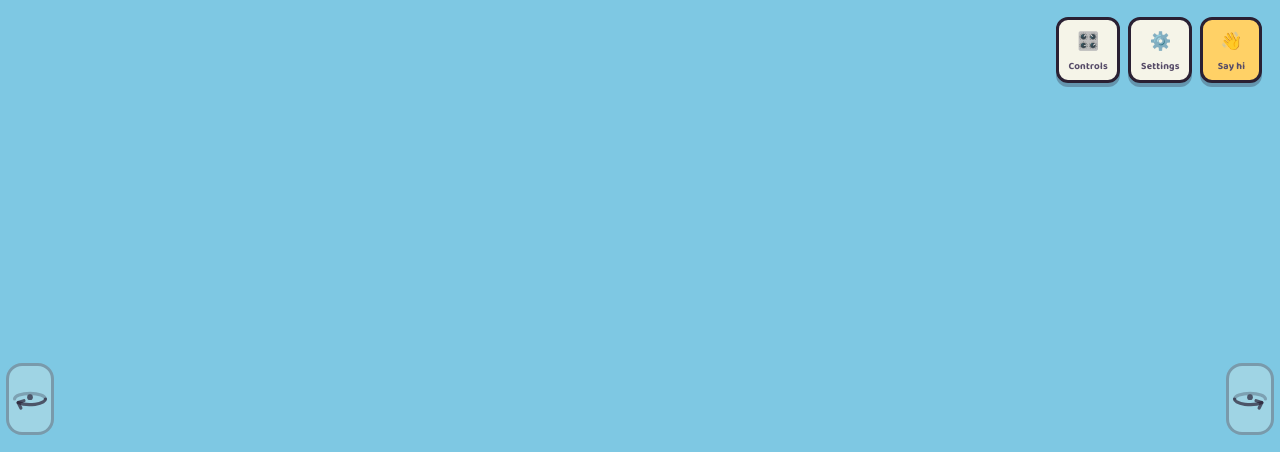
Test: the HUD on a phone › has everything else behind Controls
Click the button "🎛️ Controls" at (1088, 50), box x1=1056 y1=17 x2=1120 y2=83
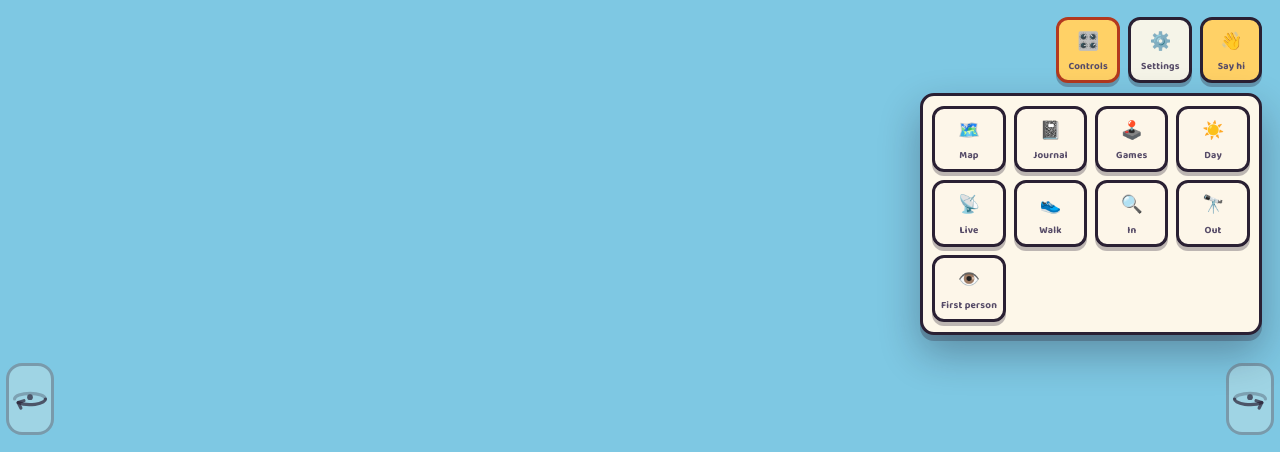
expect the element named "Controls" shows "Map": met, box x1=932 y1=106 x2=1006 y2=172
expect the element named "Controls" shows "Journal": met, box x1=1014 y1=106 x2=1087 y2=172
expect the element named "Controls" shows "Games": met, box x1=1095 y1=106 x2=1168 y2=172
